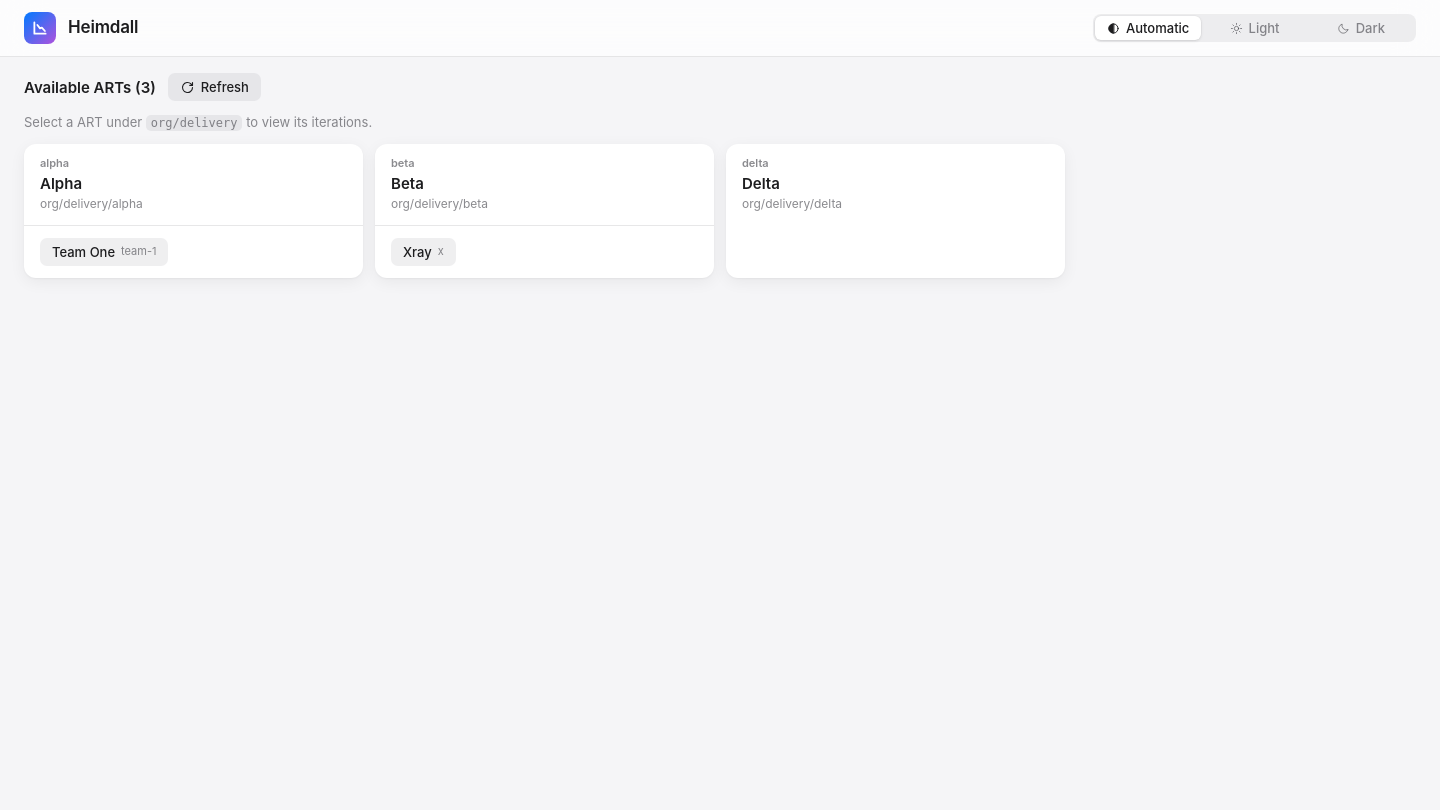
Scenario: §3.3 annotation dialogue › SA03 `Add` writes through to storage scoped (group, iid), closes, and the rail shows the amber card
This screenshot has width=1440, height=810.
Click the text "Alpha" at (61, 184), box [40, 173, 82, 194]
(page scrolled)
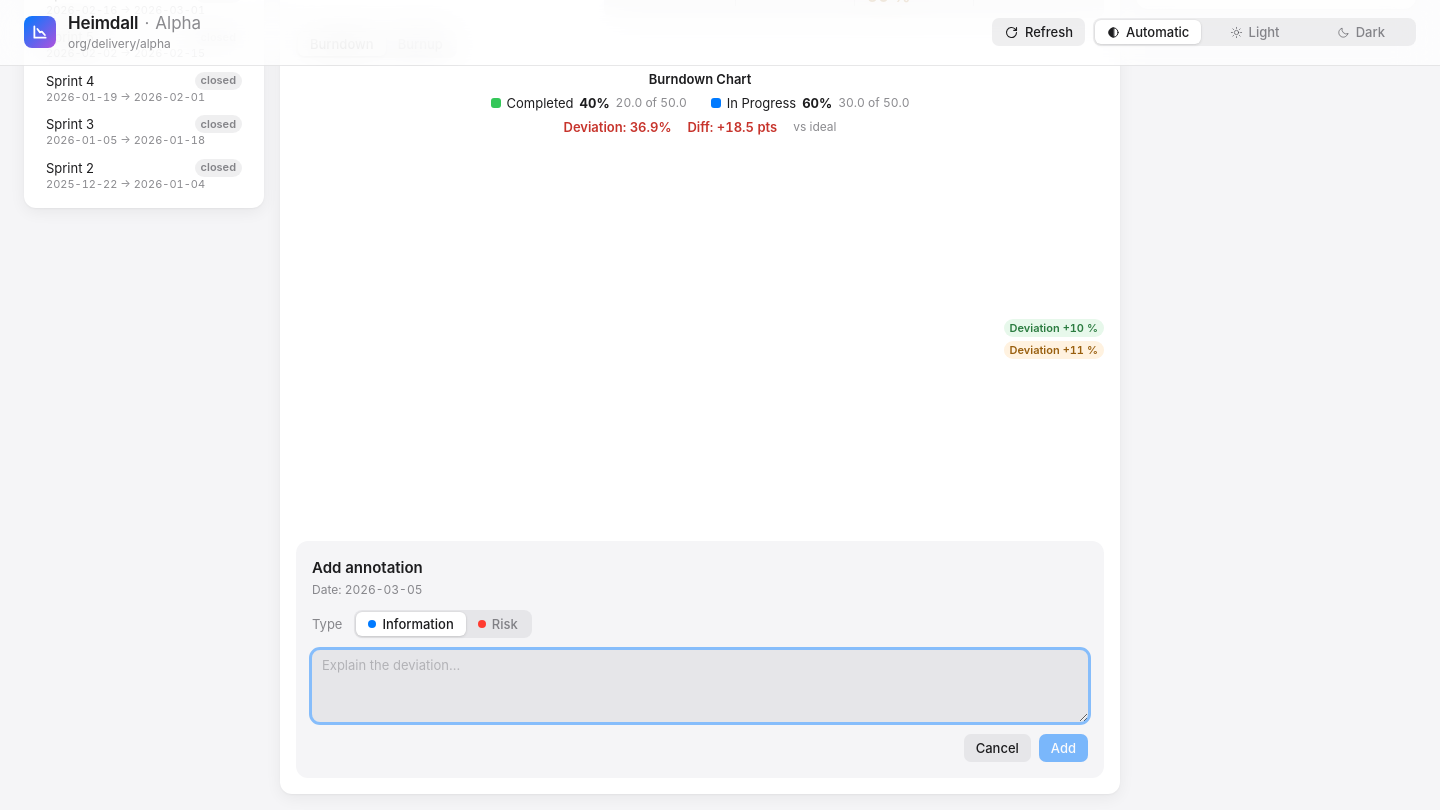
Result: the element with test id "annotation-dialog" is shown at [296, 540, 1104, 778]
Type "Scope added by PO" into the text box with placeholder "Explain the deviation..." at (700, 686), box [312, 650, 1088, 722]
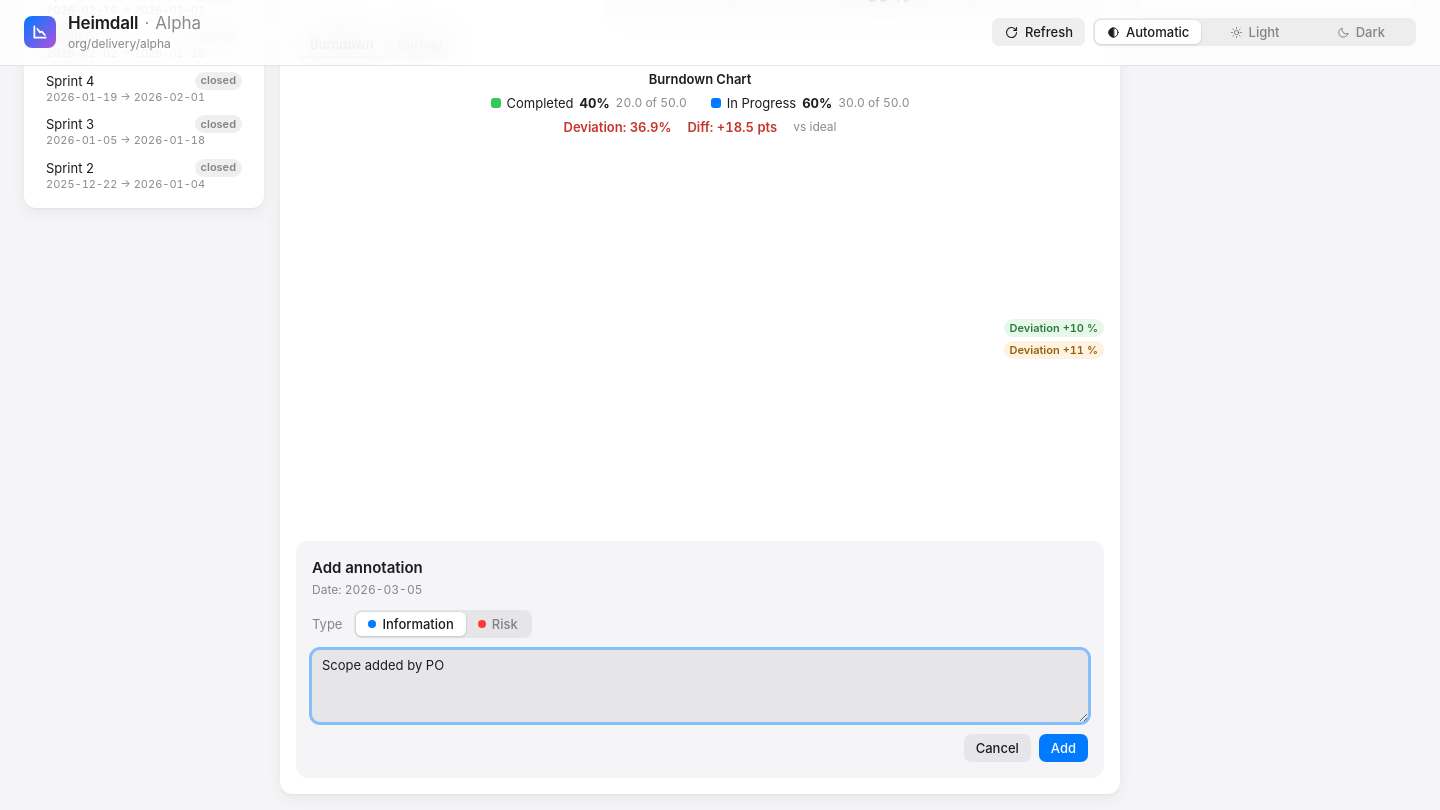
Click the button "Add" at (1063, 748), box [1039, 734, 1088, 762]
(page scrolled)
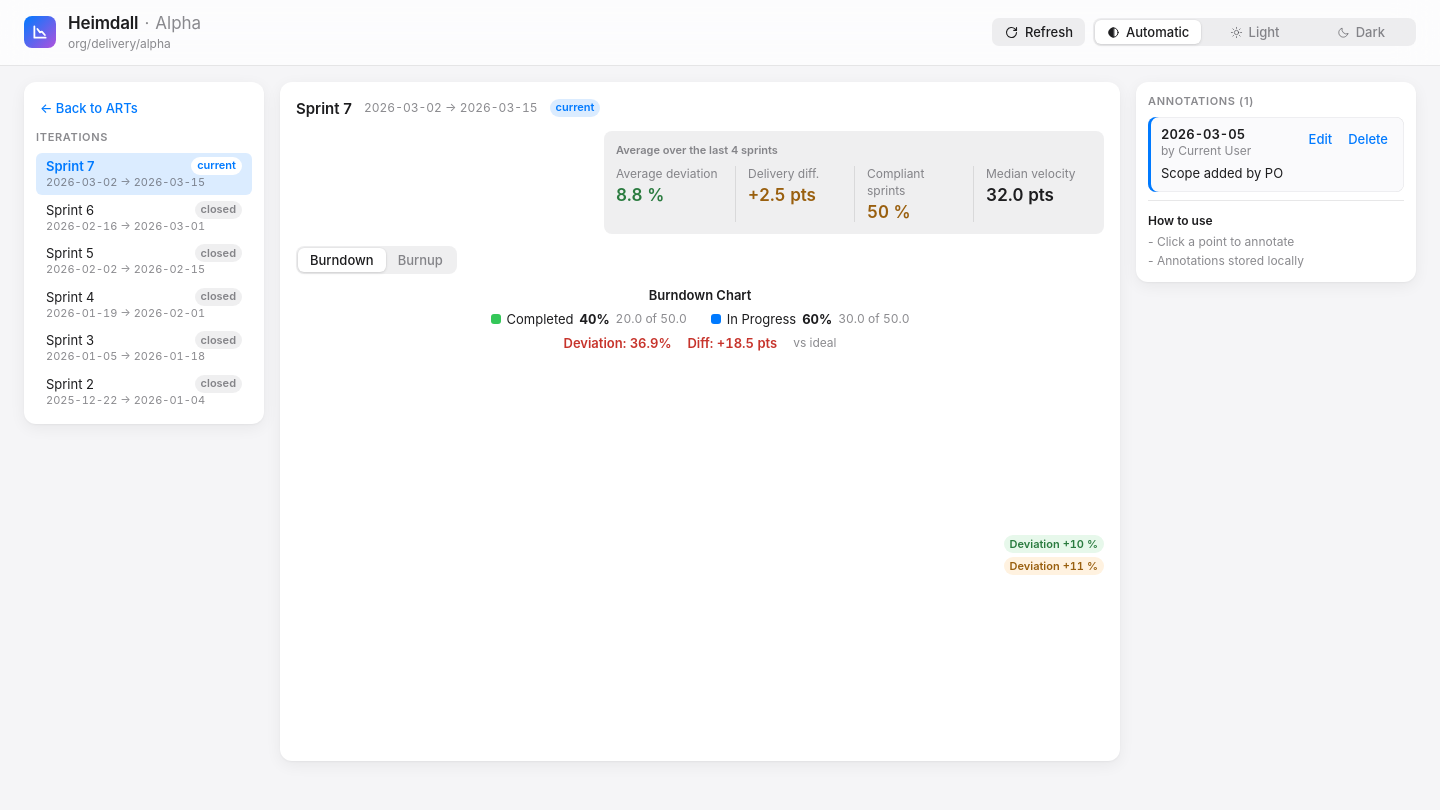
Result: the text "2026-03-05" is shown at [1161, 126, 1245, 142]
Result: the element with test id "annotation-dialog" is gone
Result: the button "Edit" is shown at [1300, 125, 1340, 153]
